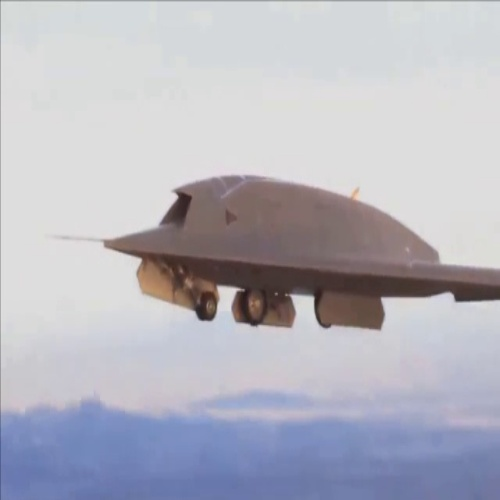uav: (38, 167, 499, 334)
